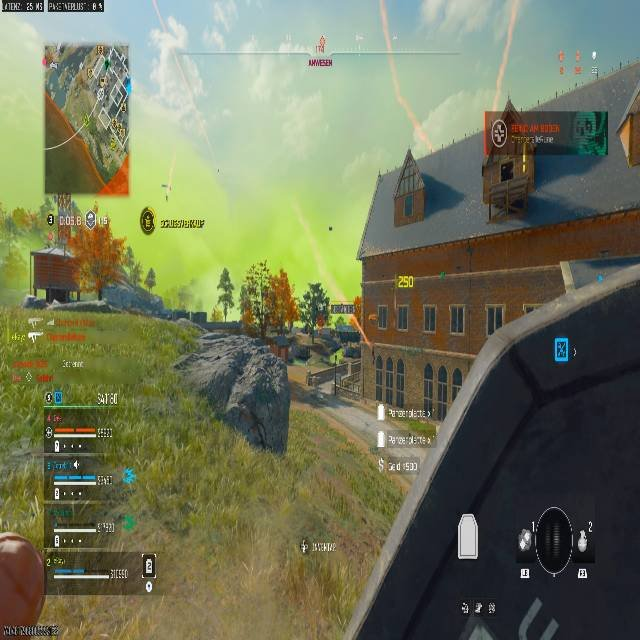player: (299, 282, 332, 334), (215, 268, 236, 318), (305, 370, 313, 386)
